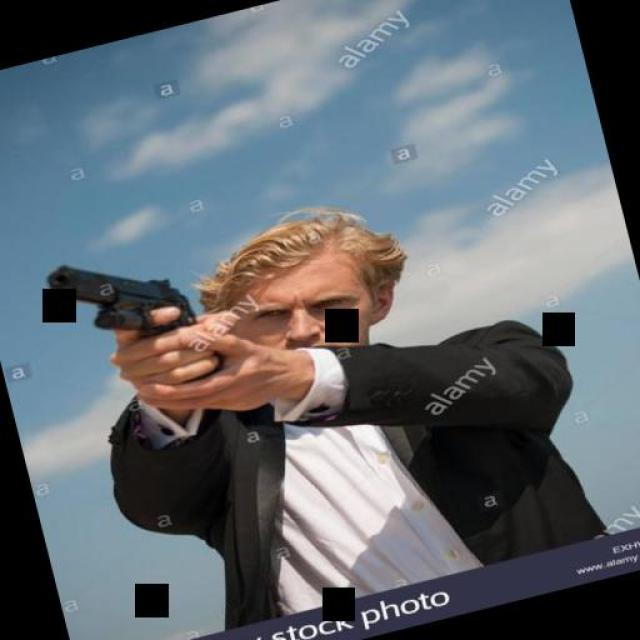gun: (34, 225, 234, 414)
